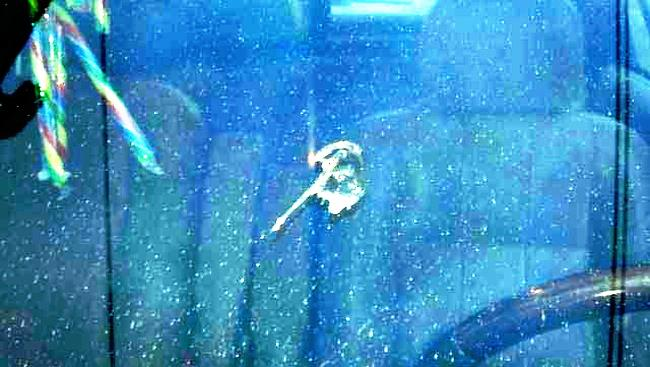Bird Poop: (271, 141, 364, 230)
